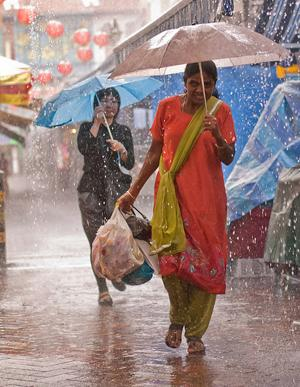person: (118, 61, 237, 353)
